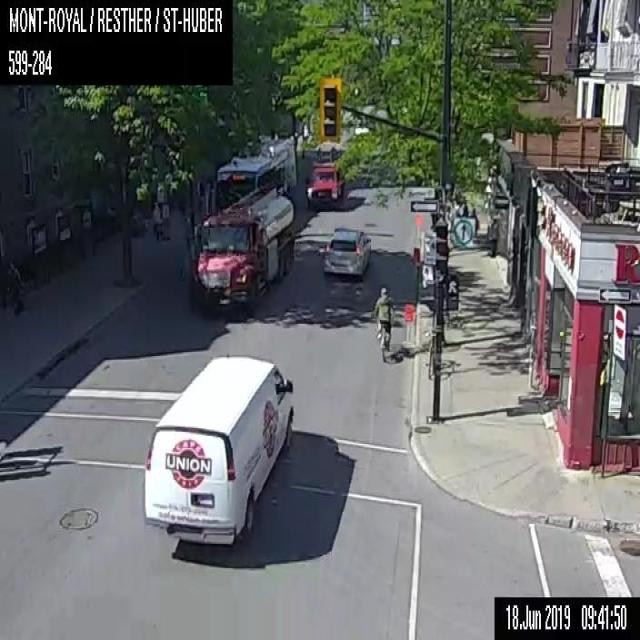bus: (218, 136, 295, 198)
construction: (403, 304, 413, 346), (411, 247, 419, 280), (415, 213, 420, 239)
cyclist: (372, 286, 392, 362)
pedestrian: (6, 262, 26, 314), (152, 201, 160, 239), (469, 206, 478, 235), (460, 202, 468, 215)
vehicle: (142, 355, 293, 544), (189, 180, 293, 312), (322, 225, 371, 278), (306, 142, 344, 208)
